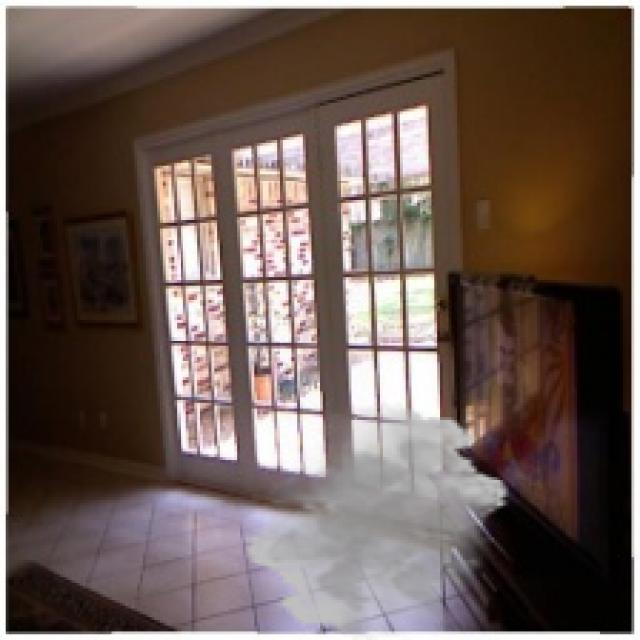smoke: (243, 403, 514, 637)
